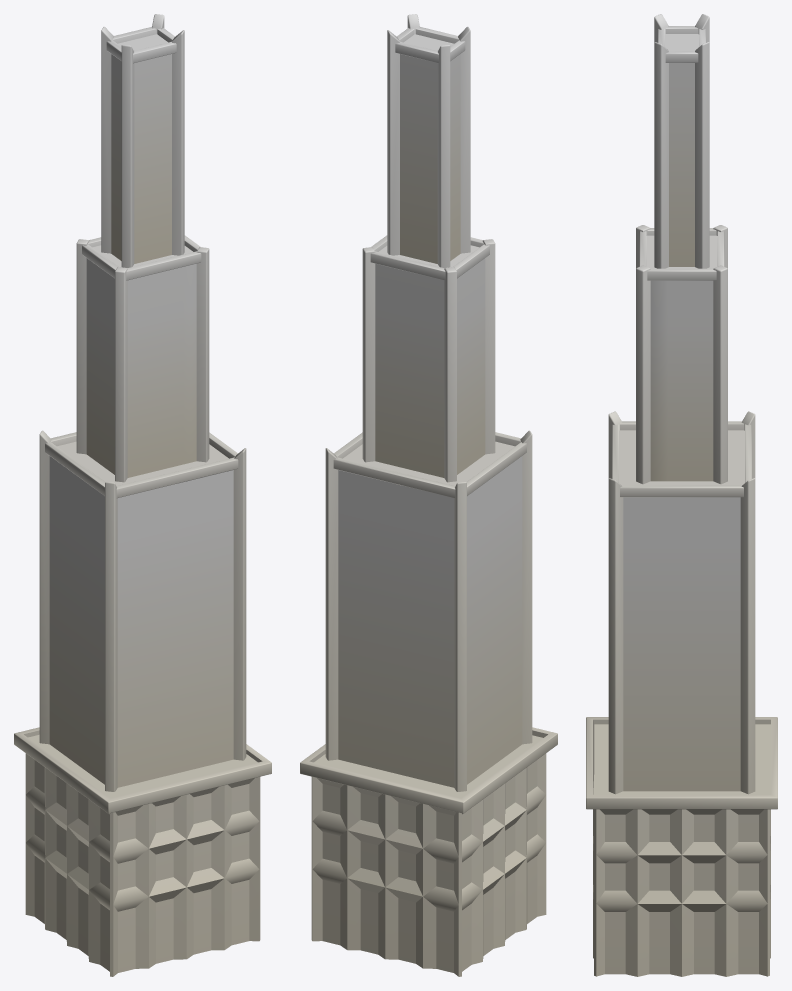
File: NF_Bld_Skyscraper 04.fbx
The picture shows the model from 3 angles, left to right: view 1: azimuth 30°, elevation 25°; view 2: azimuth 150°, elevation 25°; view 3: azimuth 270°, elevation 25°; orthographic projection.
Visible parts, largest first — view 1: Skysrp_04; view 2: Skysrp_04; view 3: Skysrp_04.
Boxes of the visible parts, x1,y1,x2,y2 form: Skysrp_04: [14, 14, 271, 976]; Skysrp_04: [300, 14, 557, 976]; Skysrp_04: [586, 14, 777, 976].
Bounding box in the file's own units: 17.82 × 93.27 × 17.82.
